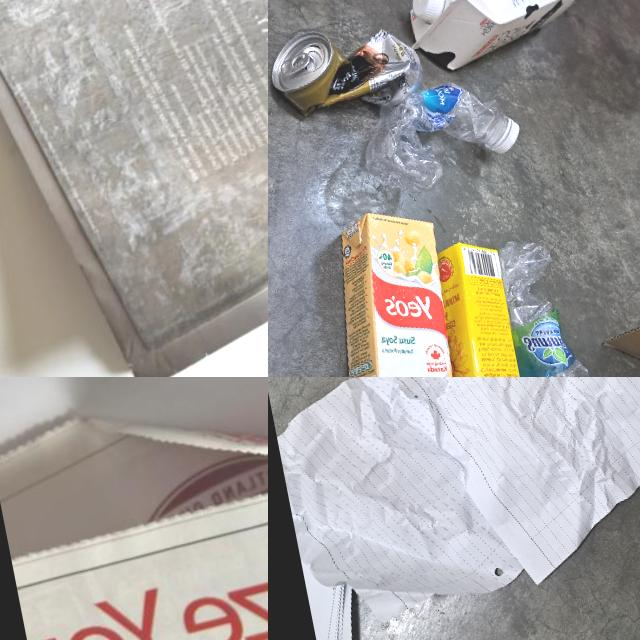aba de lata: (278, 52, 312, 76)
caixinha: (310, 201, 471, 377), (393, 234, 536, 377), (393, 0, 602, 78)
garrafa plástica: (352, 72, 518, 202), (496, 231, 596, 377)
lata: (268, 11, 429, 129)
papel: (0, 0, 268, 377), (0, 377, 268, 640), (268, 377, 542, 626), (365, 377, 640, 605), (307, 582, 380, 640)
tampa plástica: (488, 120, 524, 155), (408, 0, 447, 24)
